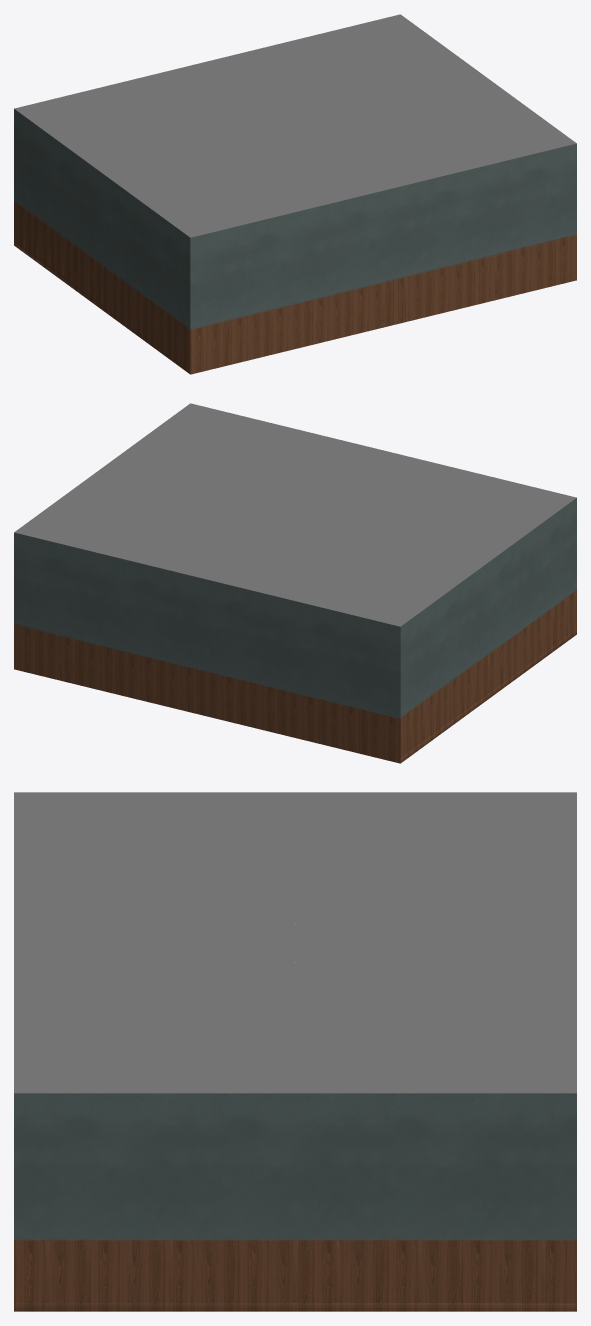
Rendered from room.glb.
3 views of the same model, one above another, from view 1: azimuth 30°, elevation 25°; view 2: azimuth 150°, elevation 25°; view 3: azimuth 270°, elevation 25° (orthographic). The views are drawn at different scales.
Visible parts, largest first — view 1: Room, Room_Ceiling; view 2: Room, Room_Ceiling; view 3: Room_Ceiling, Room.
Part boxes in pixels (<box>): Room: <box>14,108,576,374</box>; Room_Ceiling: <box>14,14,576,237</box>; Room: <box>14,497,576,763</box>; Room_Ceiling: <box>14,403,576,626</box>; Room_Ceiling: <box>14,792,576,1093</box>; Room: <box>14,1093,576,1311</box>.
Size of the model in its own units: 8.6 by 2.91 by 6.8.
Materials: 25 (12 with a texture image).
